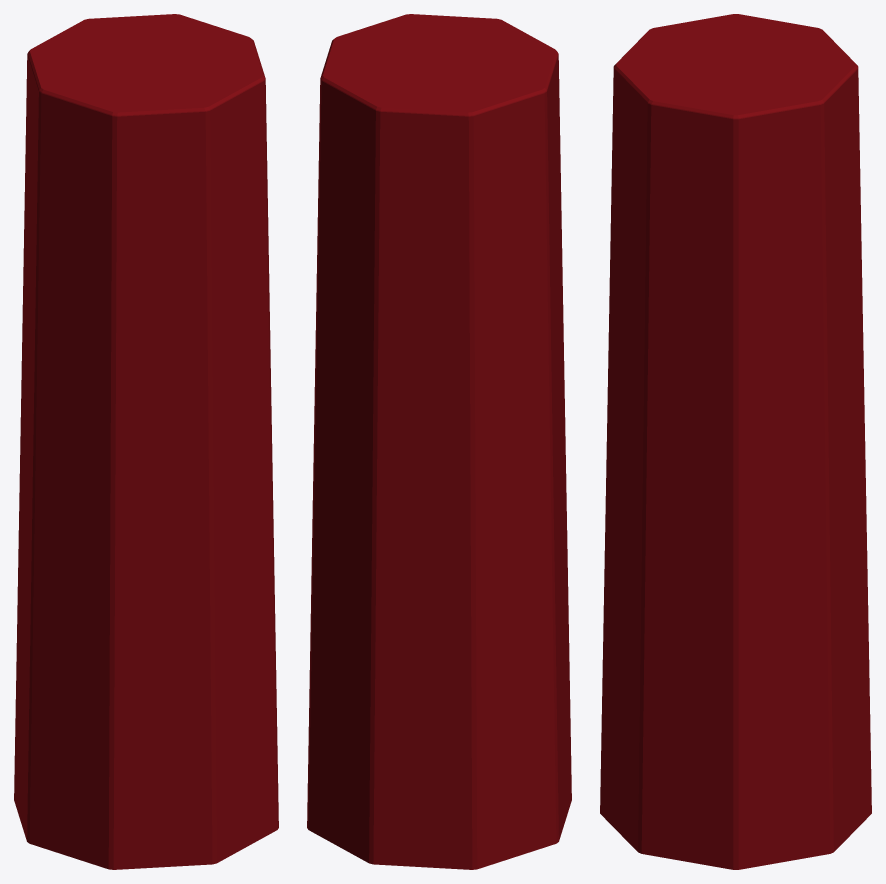
Rendered from SM_MH_01_Wood_Pillar_06.fbx.
3 views of the same model, side by side, from view 1: azimuth 30°, elevation 25°; view 2: azimuth 150°, elevation 25°; view 3: azimuth 270°, elevation 25° (orthographic).
Parts seen in each view (by area): view 1: SM_MH_01_Wood_Pillar_06_LOD0; view 2: SM_MH_01_Wood_Pillar_06_LOD0; view 3: SM_MH_01_Wood_Pillar_06_LOD0.
Boxes of the visible parts, left/top/right/bottom form: SM_MH_01_Wood_Pillar_06_LOD0: left=14, top=14, right=278, bottom=869; SM_MH_01_Wood_Pillar_06_LOD0: left=307, top=14, right=571, bottom=869; SM_MH_01_Wood_Pillar_06_LOD0: left=600, top=14, right=871, bottom=869.
Size of what is drawn, in the model's own units: 99.23 by 301 by 99.23.
